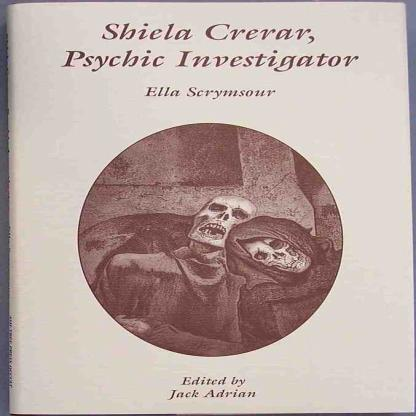book: (8, 2, 416, 413)
